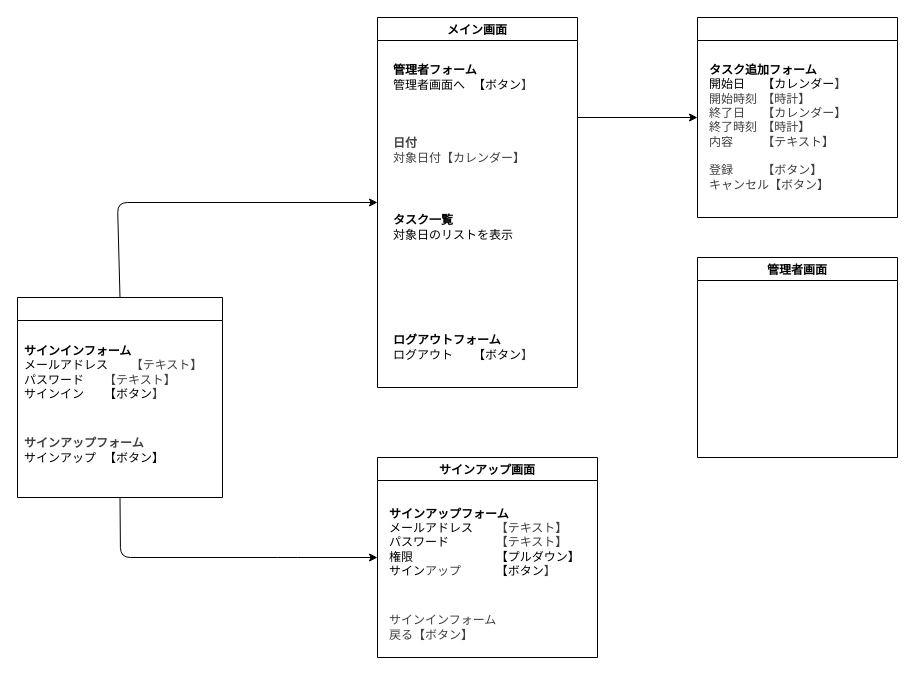
The diagram is 915 pixels wide and 675 high, and some of its shapes have lost their labels. The shapes that lost their labels are listed below. From the top down, each one's box as (x1, y1, x2, y2) in pixels, then its label:
(696, 16, 898, 218): タスク登録画面
(16, 296, 222, 498): サインイン画面
